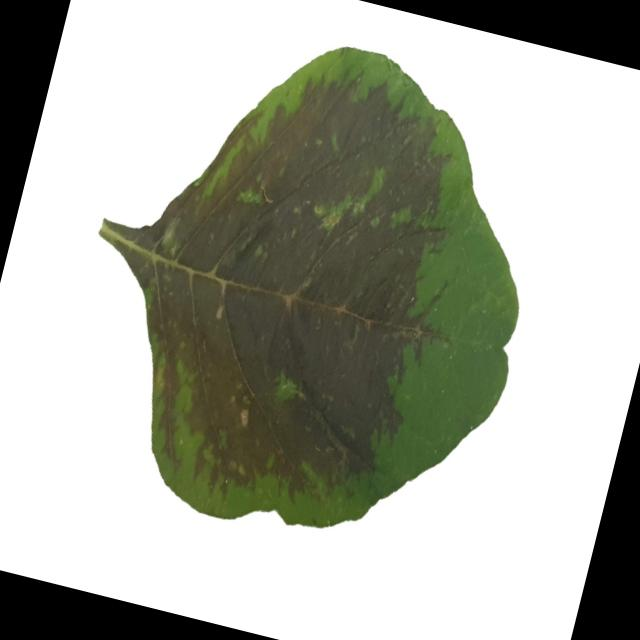Medicinal-Arive Dantu: (36, 0, 576, 578)
